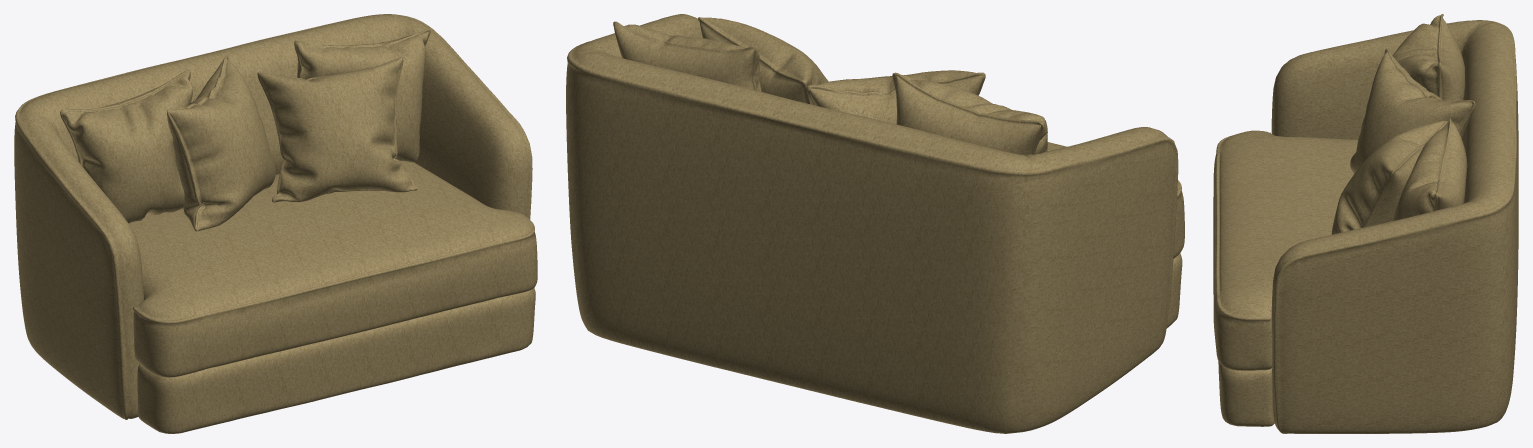
Rendered from sofa-chair.glb.
3 views of the same model, side by side, from view 1: azimuth 30°, elevation 25°; view 2: azimuth 150°, elevation 25°; view 3: azimuth 270°, elevation 25° (orthographic). The views are drawn at different scales.
Visible parts, largest first — view 1: Sofa; view 2: Sofa; view 3: Sofa.
Part boxes in pixels (left/top/right/bottom): Sofa: left=14, top=14, right=537, bottom=433; Sofa: left=566, top=14, right=1184, bottom=433; Sofa: left=1213, top=14, right=1518, bottom=433.
Bounding box in the file's own units: 4.94 × 2.93 × 3.16.
2 materials, 2 textured.
